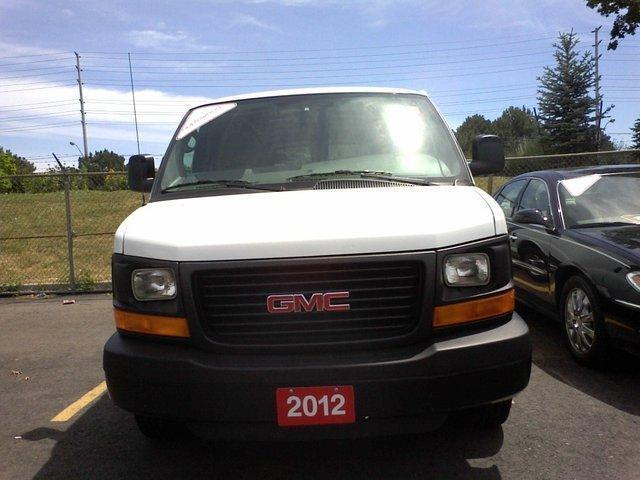GMC: (254, 284, 372, 324)
